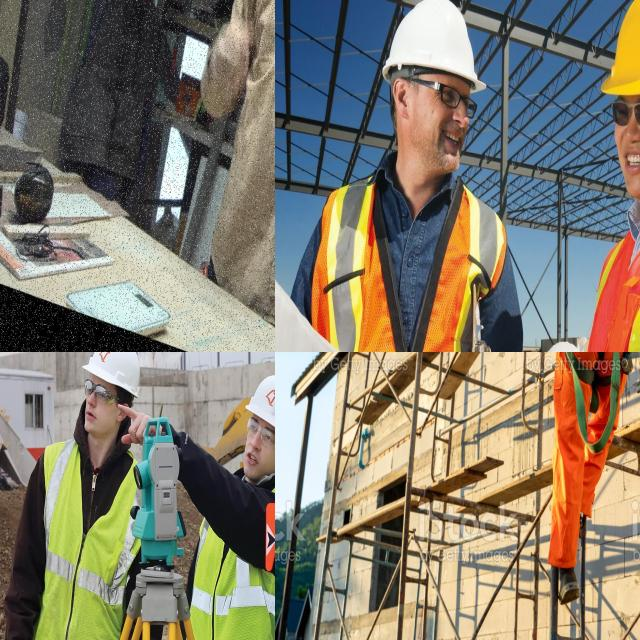Harness: (552, 352, 638, 423)
No_Ear-Protection: (391, 78, 410, 120)
face_nomask: (406, 84, 482, 190), (612, 82, 640, 193), (78, 374, 120, 442), (236, 416, 275, 483)
glasses: (434, 80, 482, 124), (80, 375, 117, 407), (243, 416, 275, 451), (608, 98, 640, 132)
hand_noglove: (121, 404, 159, 451)
head_helmet: (380, 0, 486, 95), (600, 0, 640, 96), (81, 352, 148, 395), (246, 370, 275, 440)
person: (289, 0, 534, 352), (29, 352, 145, 640), (183, 352, 275, 640), (567, 0, 640, 352)
vest: (317, 170, 497, 352), (36, 446, 136, 640), (184, 452, 275, 640)
